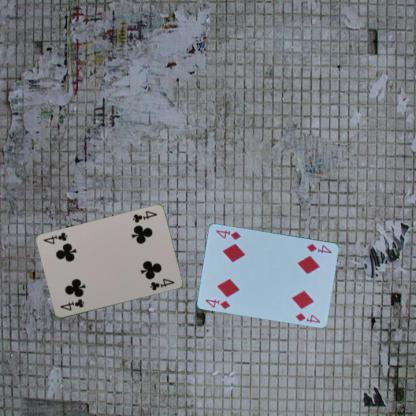4c: (57, 296, 86, 312), (130, 208, 158, 224)
4d: (304, 240, 334, 255), (203, 296, 232, 310)
